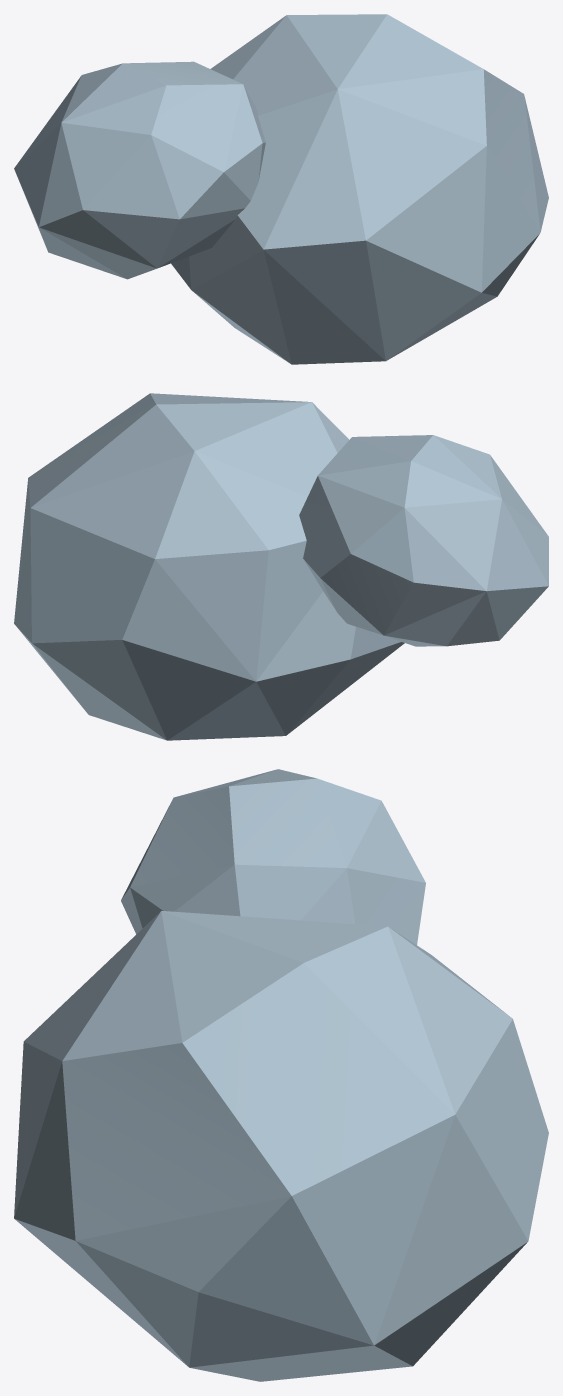
The model's file is small_cloud_33.fbx.
3 renders of one model, top to bottom at view 1: azimuth 30°, elevation 25°; view 2: azimuth 150°, elevation 25°; view 3: azimuth 270°, elevation 25°, orthographic. The views are drawn at different scales.
Parts seen in each view (by area): view 1: cloud_3; view 2: cloud_3; view 3: cloud_3.
Part boxes in pixels (x1,y1,x2,y2): cloud_3: [14, 14, 548, 364]; cloud_3: [14, 393, 548, 740]; cloud_3: [14, 769, 548, 1381].
Bounding box in the file's own units: 297 × 183 × 203.
